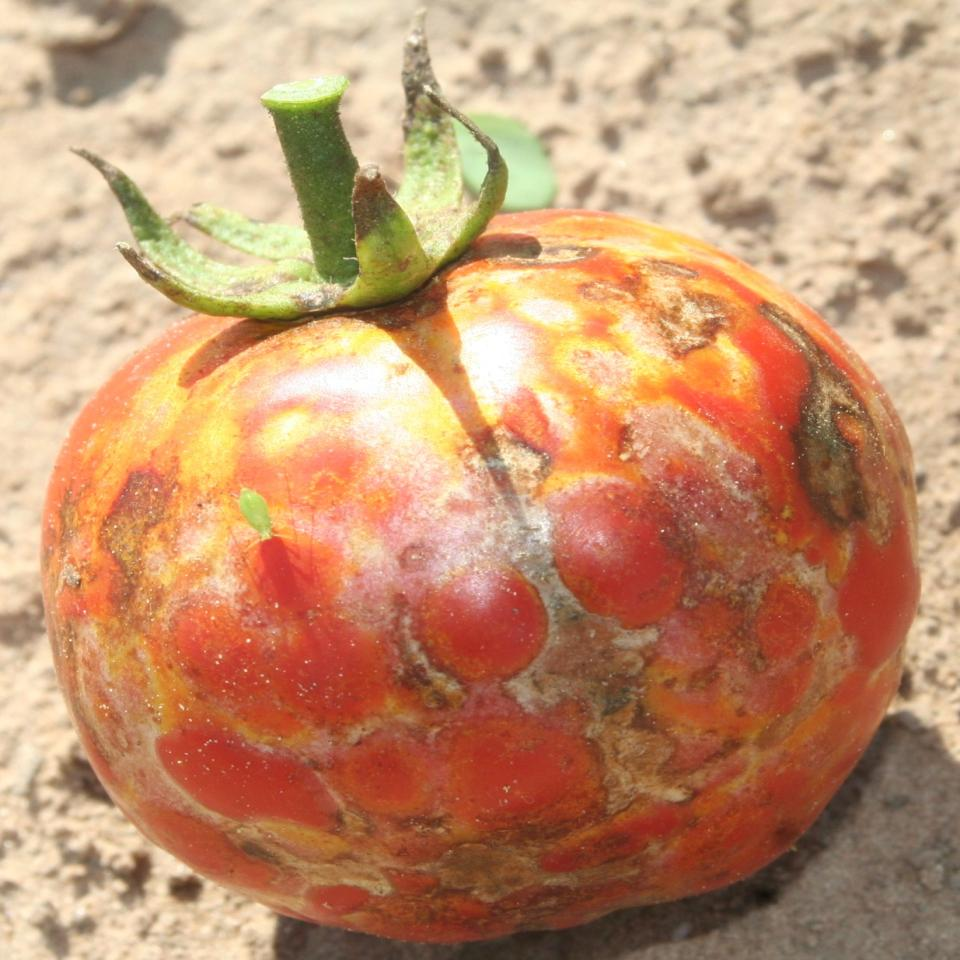Spotted wilt Virus: (43, 210, 915, 949)
